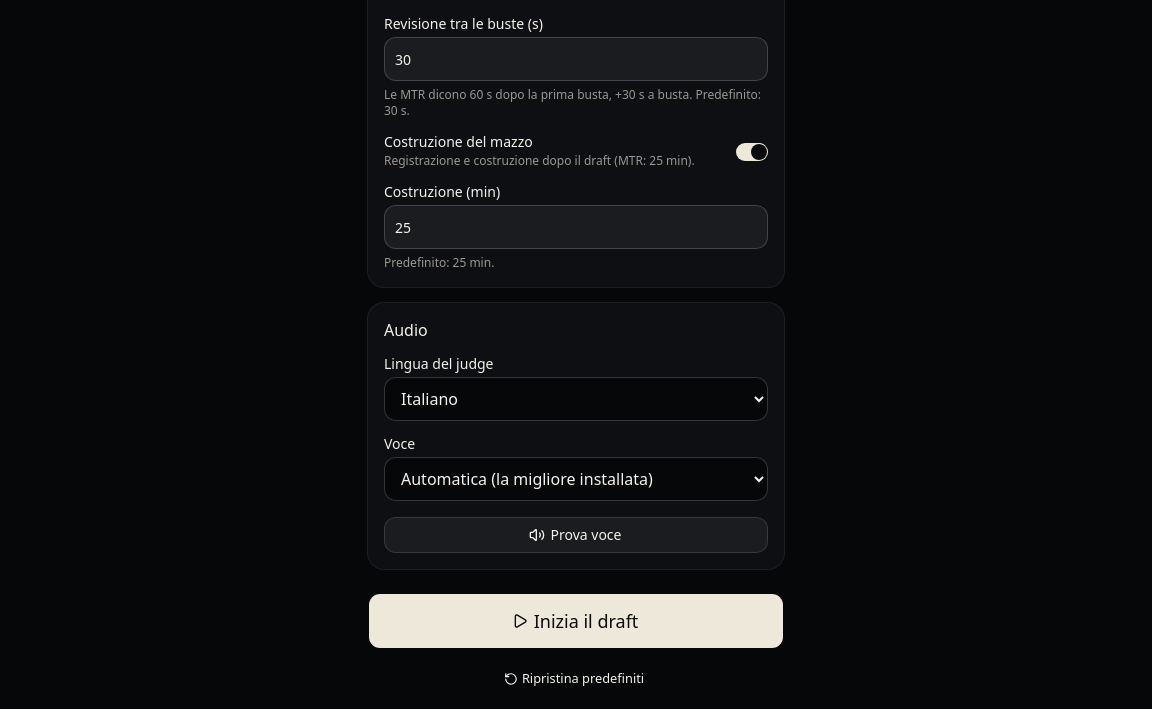
Test: App › asks twice before leaving a running draft
(page scrolled)
What coordinates should you click on to do the following:
click the button "Inizia il draft"
I would click on:
 (576, 621)
Its box is [368,593,784,649].
(page scrolled)
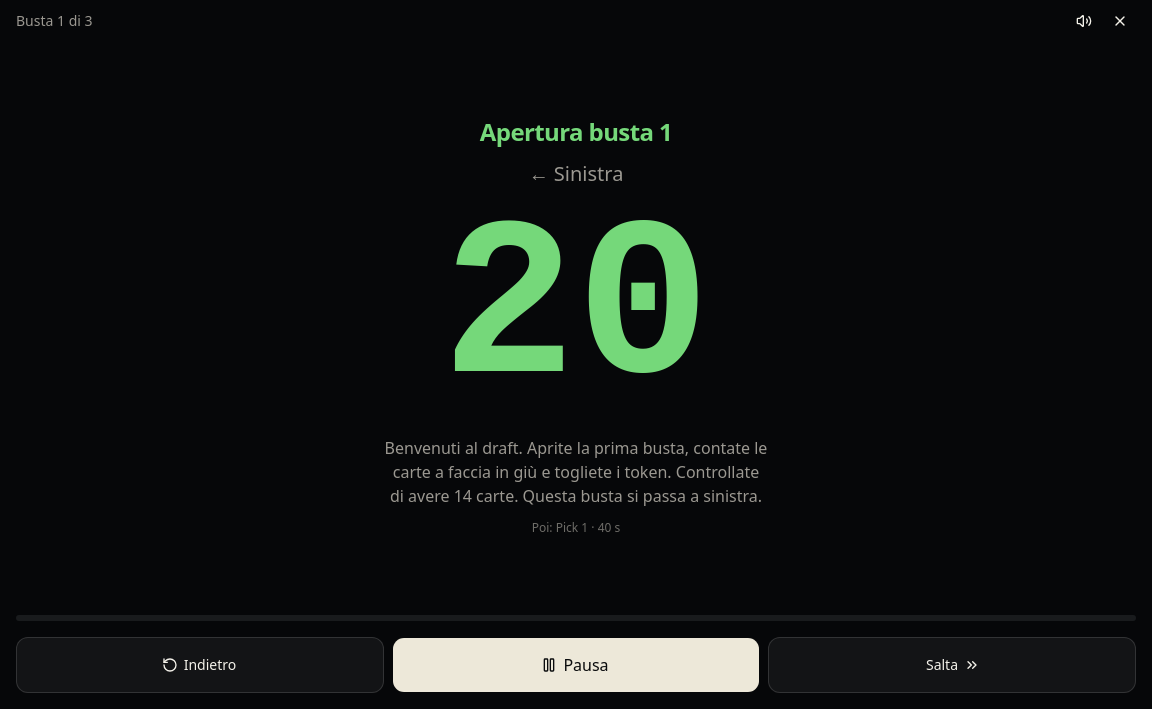
What coordinates should you click on to do the following:
click the button named "Esci"
I would click on:
 (1120, 21)
Its box is [1104,5,1136,37].
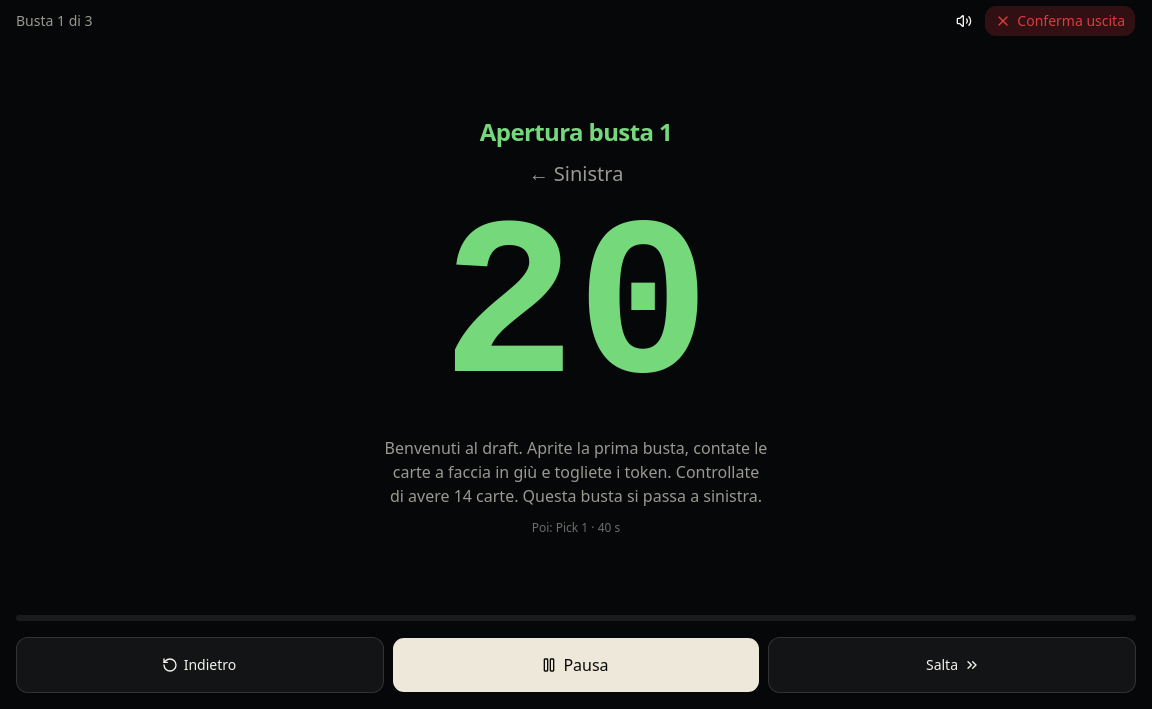
Expected: the text "20" is shown, [442,200,710,424]
What coordinates should you click on to do the following:
click the button "Conferma uscita"
I would click on:
 (1060, 21)
Its box is [984,5,1136,37].
(page scrolled)
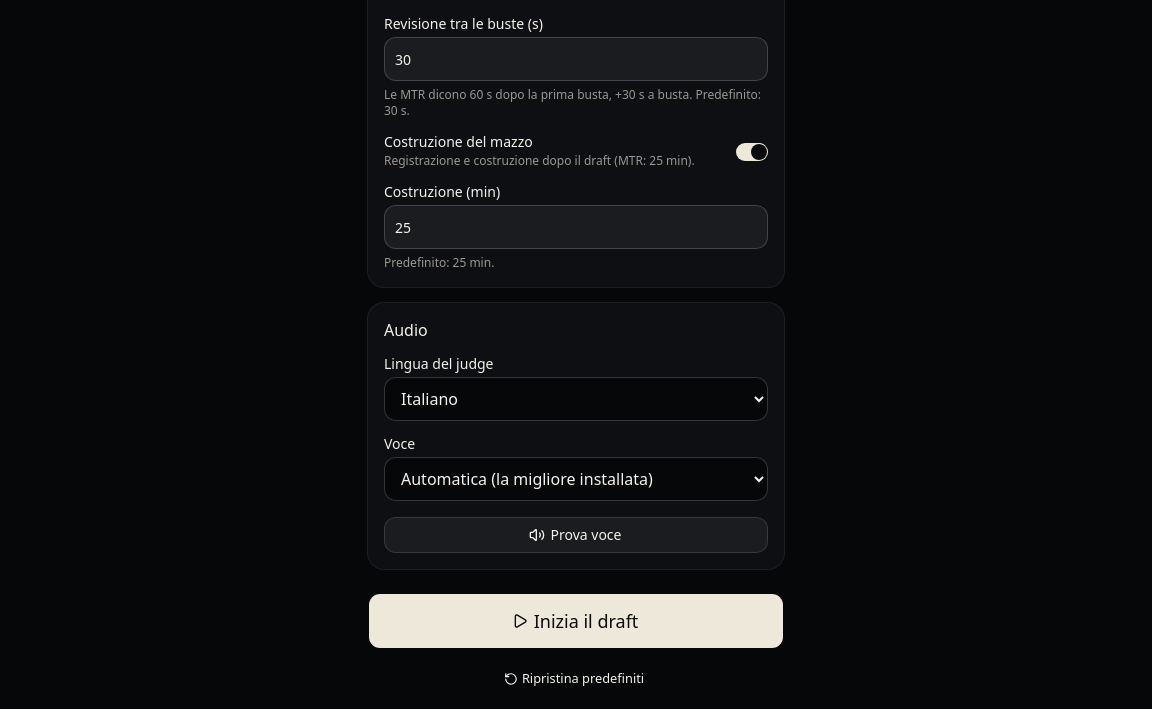
Expected: the text with test id "clock" is gone
Expected: the button "Inizia il draft" is shown, [368,593,784,649]
